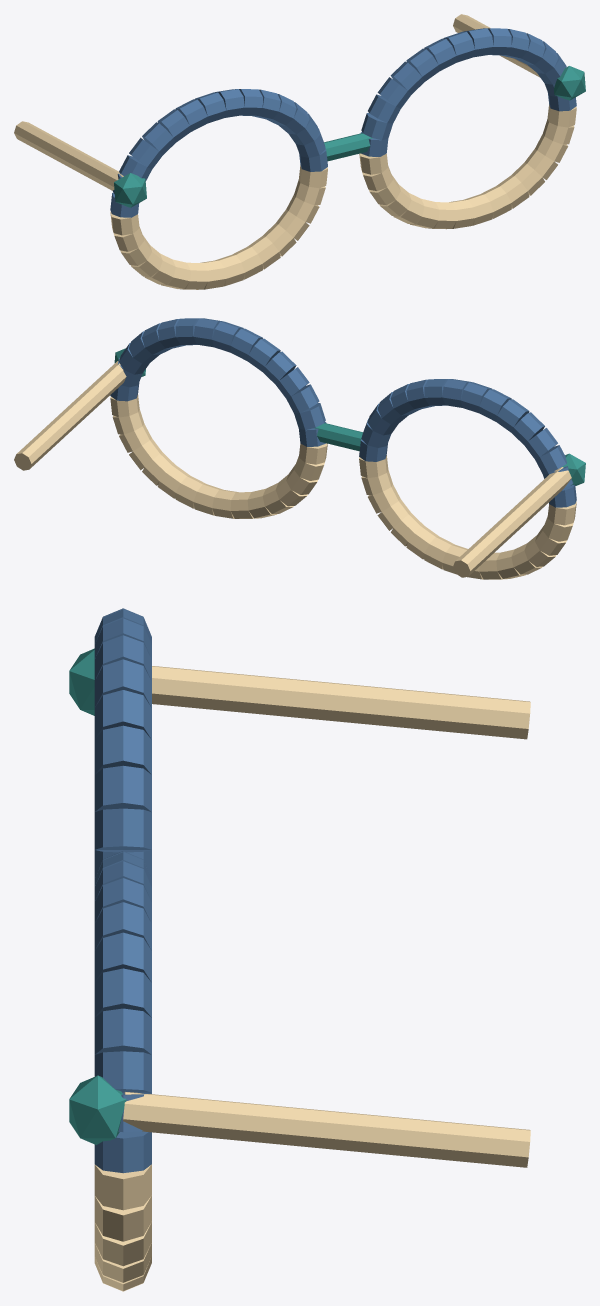
Rendered from eyewear_half_rim.glb.
3 renders of one model, top to bottom at view 1: azimuth 30°, elevation 25°; view 2: azimuth 150°, elevation 25°; view 3: azimuth 270°, elevation 25°, orthographic. The views are drawn at different scales.
Visible parts, largest first — view 1: wearable; view 2: wearable; view 3: wearable.
Part boxes in pixels (bbox=[...]): wearable: bbox=[14, 14, 585, 289]; wearable: bbox=[14, 318, 585, 579]; wearable: bbox=[69, 608, 530, 1291].
Size of the model in its own units: 0.6411 by 0.2539 by 0.2733.
